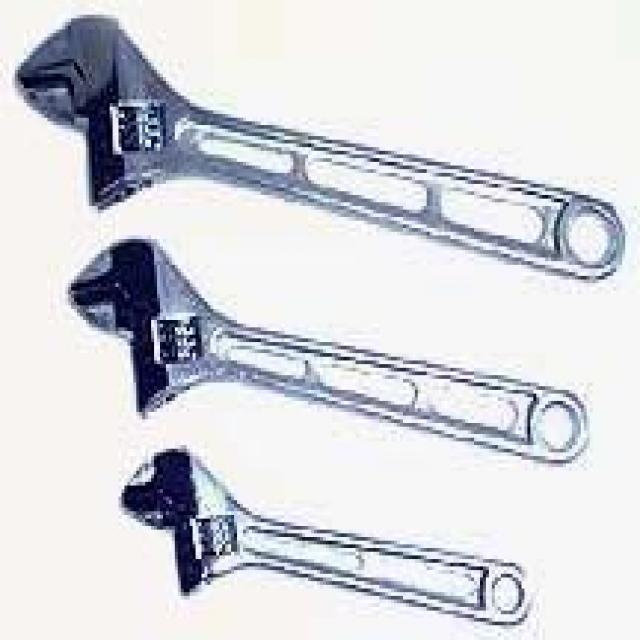wrench: (15, 6, 630, 281), (37, 226, 605, 481), (110, 444, 532, 632)
